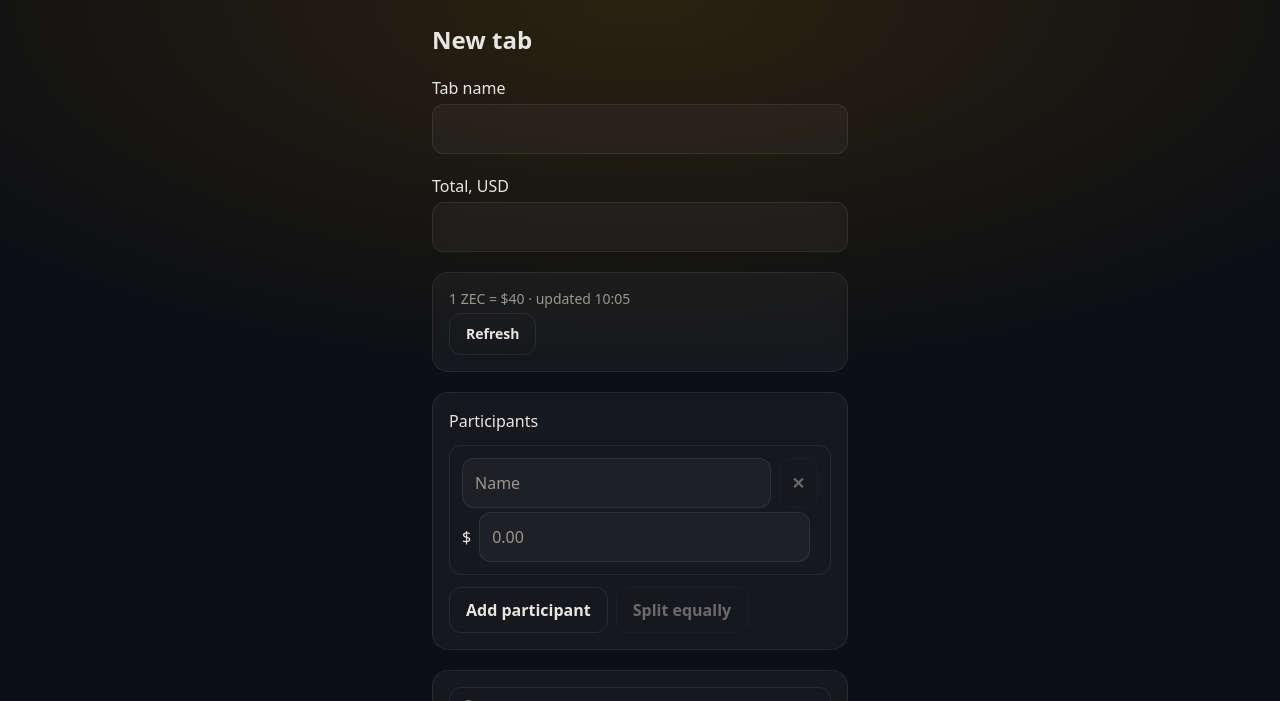
NewTab › shows the over amount
The width and height of the screenshot is (1280, 701).
Type "50.00" into the field labelled "Total, USD" at (640, 227), box x1=432 y1=202 x2=848 y2=252
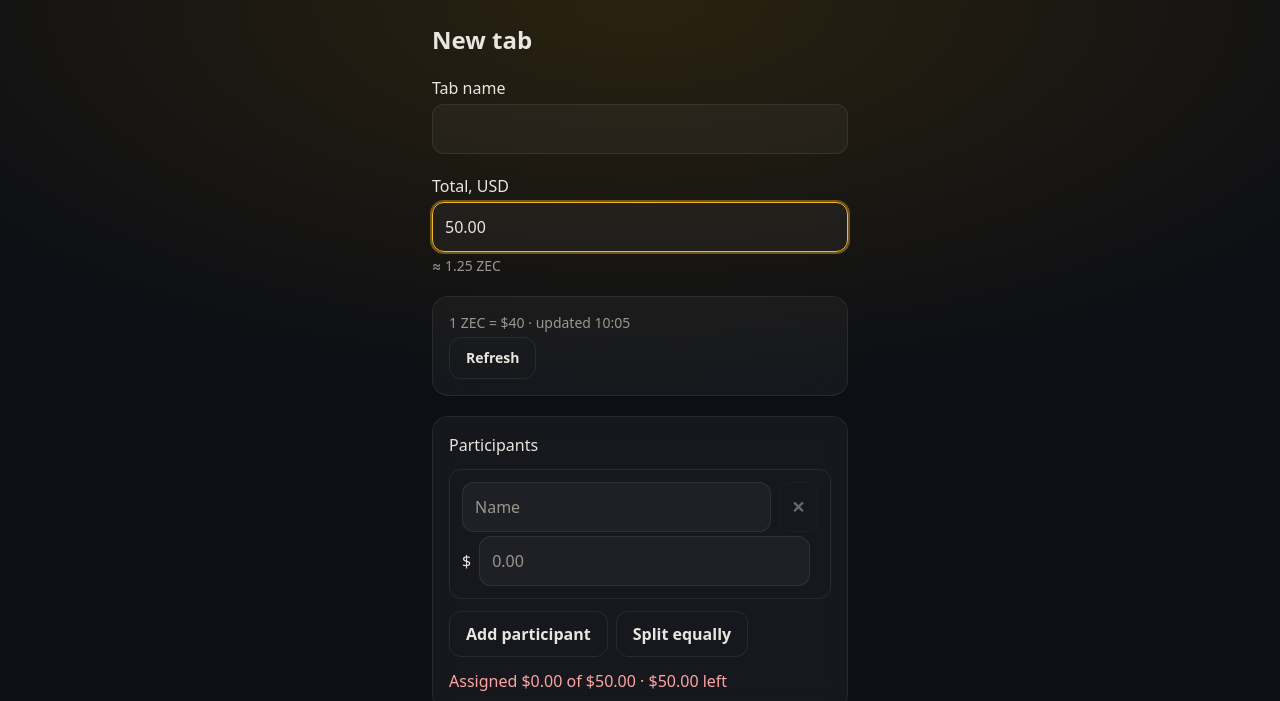
Type "55.00" into the field named "Share USD 1" at (645, 561), box x1=479 y1=536 x2=810 y2=586
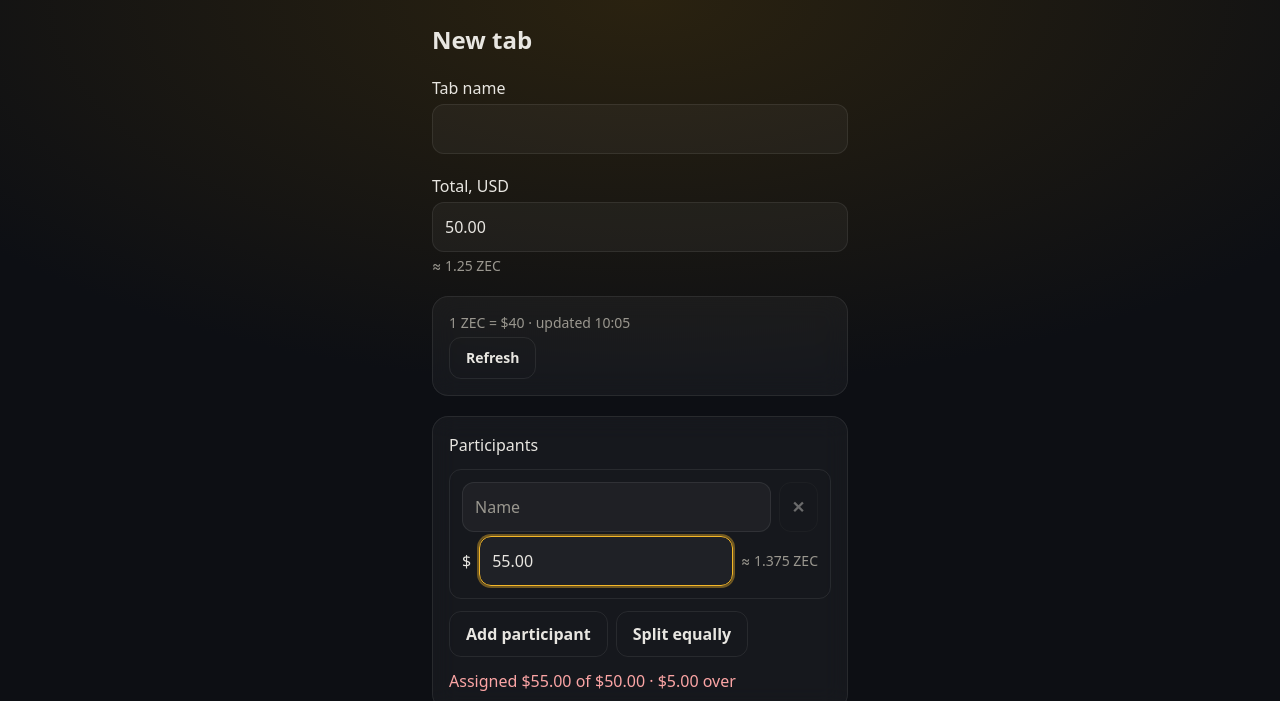
Now the text "Assigned $55.00 of $50.00 · $5.00 over" is shown, box x1=449 y1=670 x2=736 y2=692
